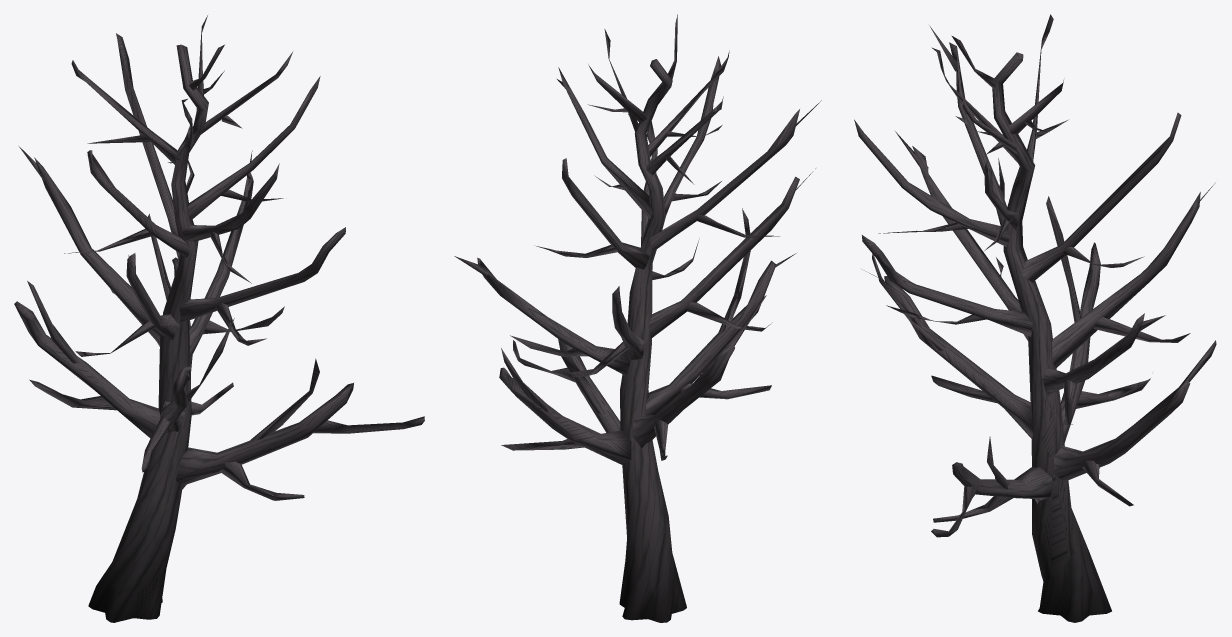
The model's file is DeadTree_2.medium.gltf.
The picture shows the model from 3 angles, left to right: view 1: azimuth 30°, elevation 25°; view 2: azimuth 150°, elevation 25°; view 3: azimuth 270°, elevation 25°; orthographic projection. The views are drawn at different scales.
Parts seen in each view (by area): view 1: DeadTree_2; view 2: DeadTree_2; view 3: DeadTree_2.
Boxes of the visible parts, left/top/right/bottom form: DeadTree_2: left=14, top=15, right=424, bottom=622; DeadTree_2: left=454, top=14, right=821, bottom=622; DeadTree_2: left=854, top=14, right=1216, bottom=622.
Size of the model in its own units: 6.66 by 11.19 by 6.28.
1 material, 1 textured.
